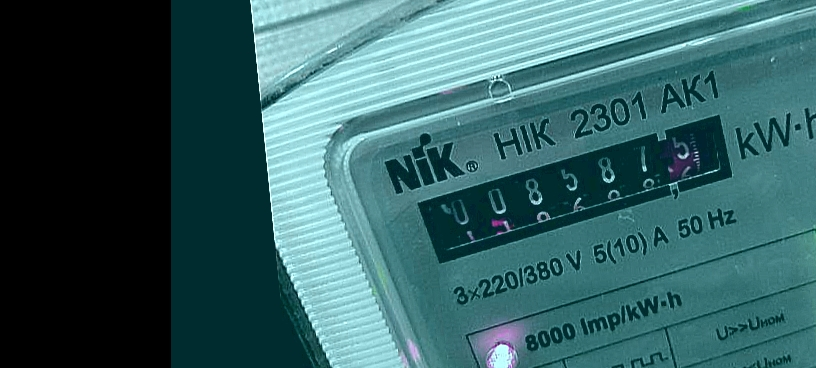0: (482, 181, 511, 217), (445, 192, 474, 227)
5: (556, 160, 582, 194), (667, 127, 692, 160)
6: (676, 162, 695, 181)
7: (629, 140, 655, 176)
8: (520, 173, 547, 207), (592, 151, 618, 186)
screen: (402, 110, 760, 266)
